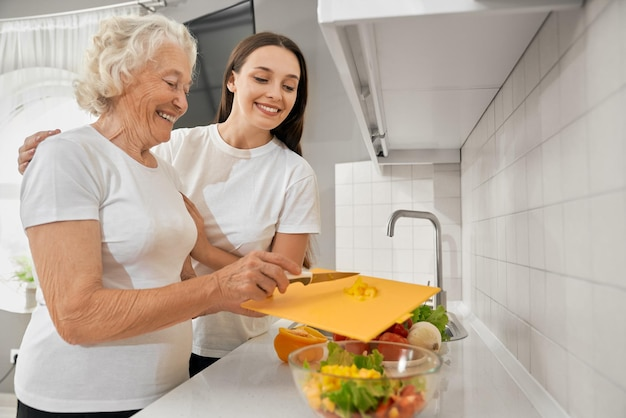knife: (288, 269, 363, 288)
